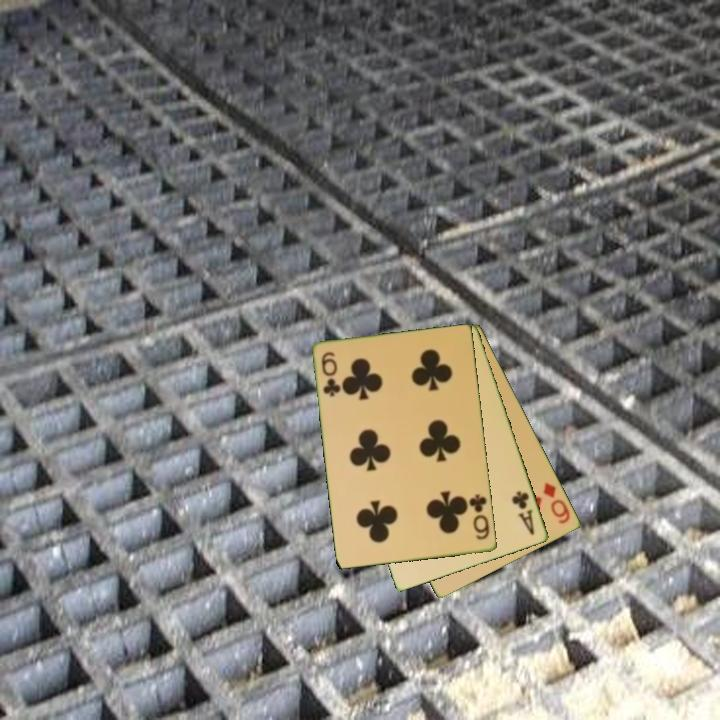6c: (466, 491, 493, 543), (318, 348, 343, 400)
6d: (540, 479, 573, 527)
Ac: (508, 488, 538, 538)
